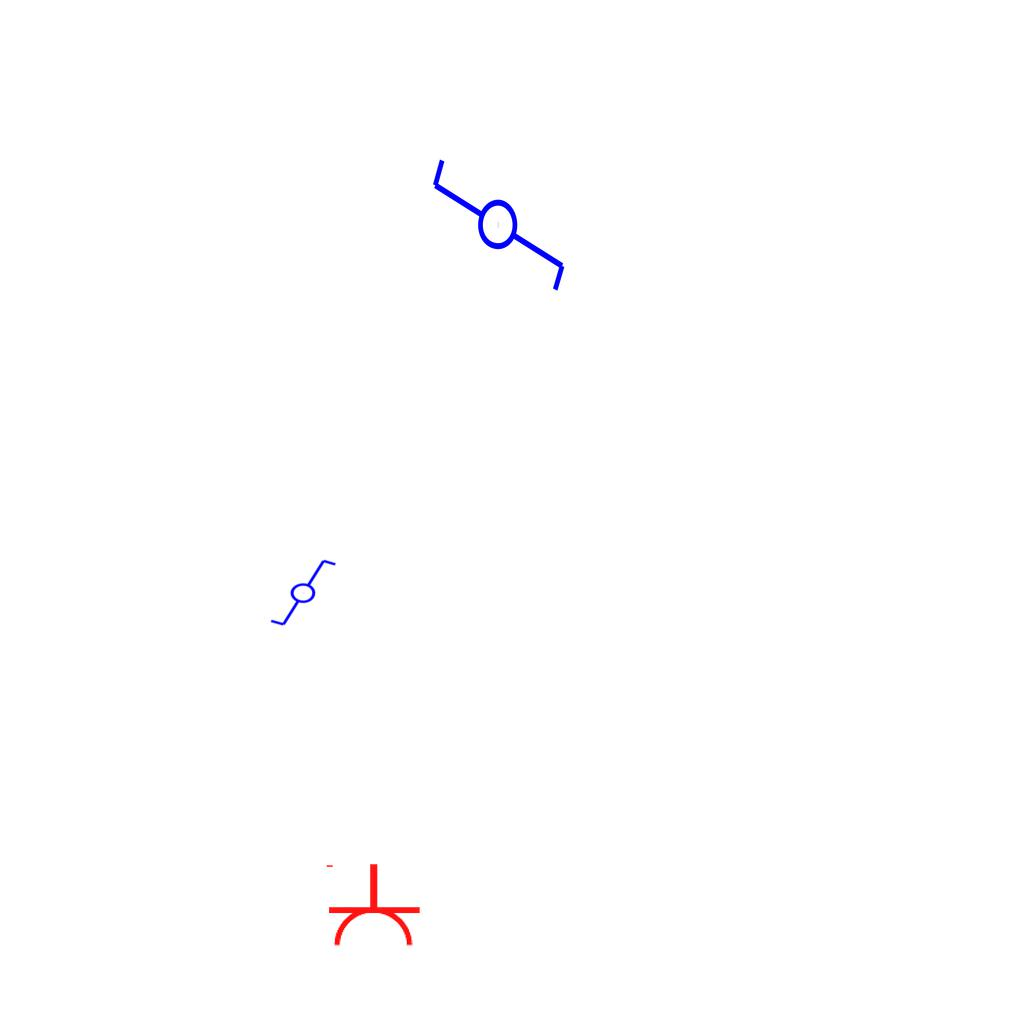Schukosteckdose_einfach: (322, 862, 422, 949)
Wechselschalter: (428, 138, 572, 295), (260, 556, 338, 628)
